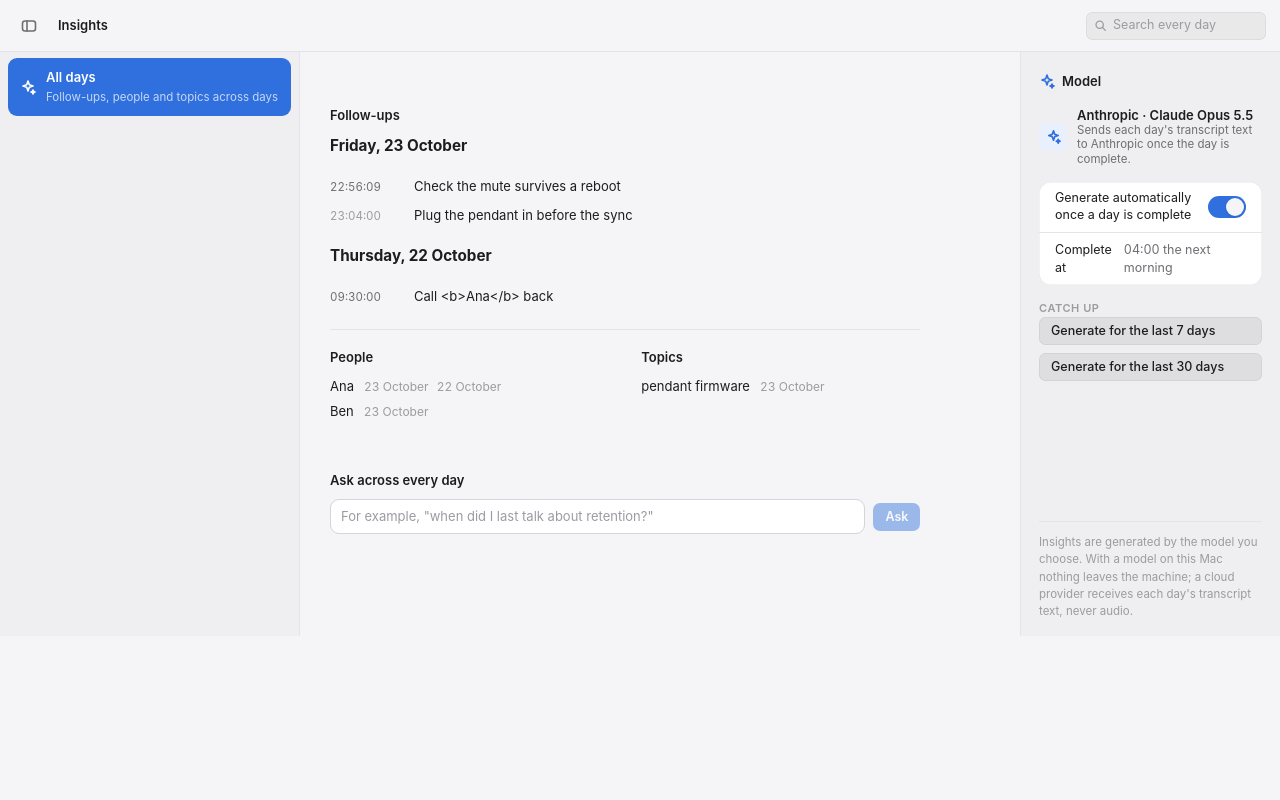
Scenario: All days asks across every day: the question goes to /api/ask-days, the answer shows with its sources as jumps
Type "when did I count?" into the field labelled "Ask across every day" at (598, 517), box 330,499 -> 866,534
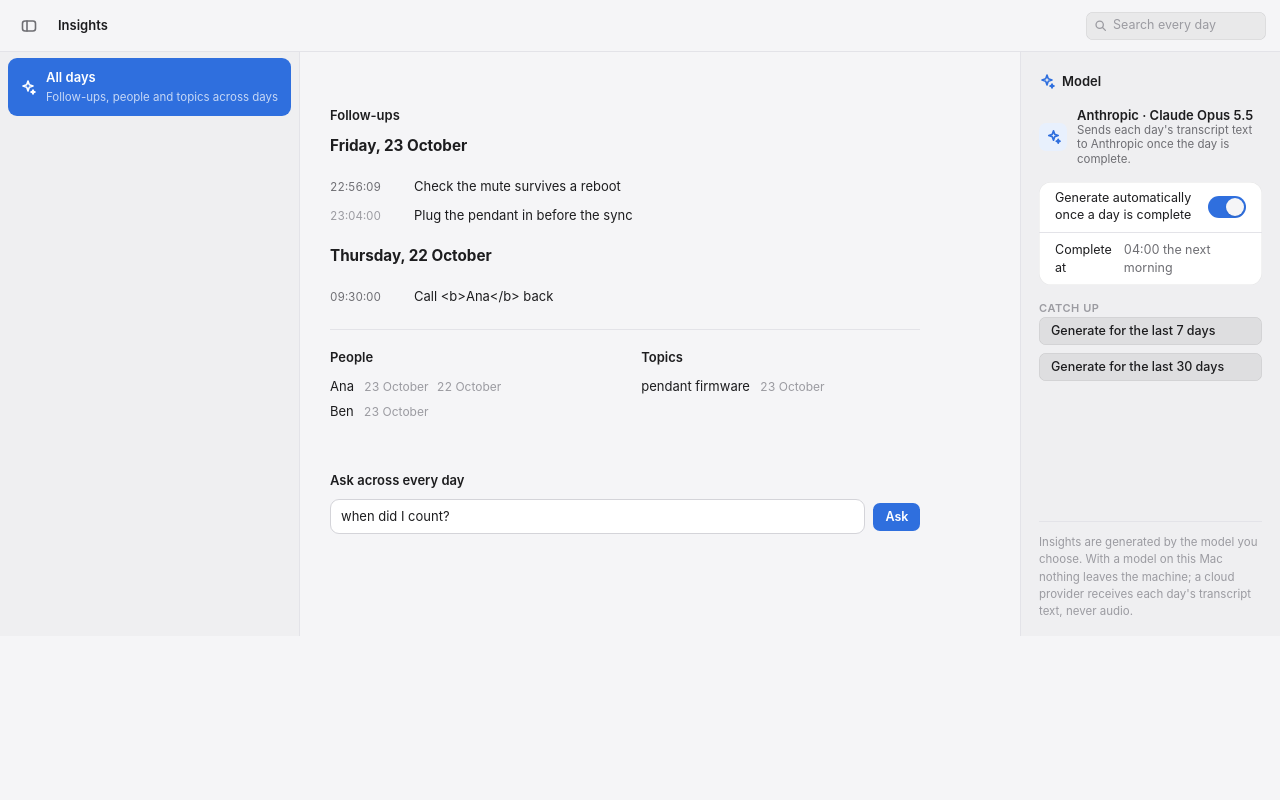
Submit the form "Ask across every day", box 330,471 -> 920,534
Wait 1000 ms
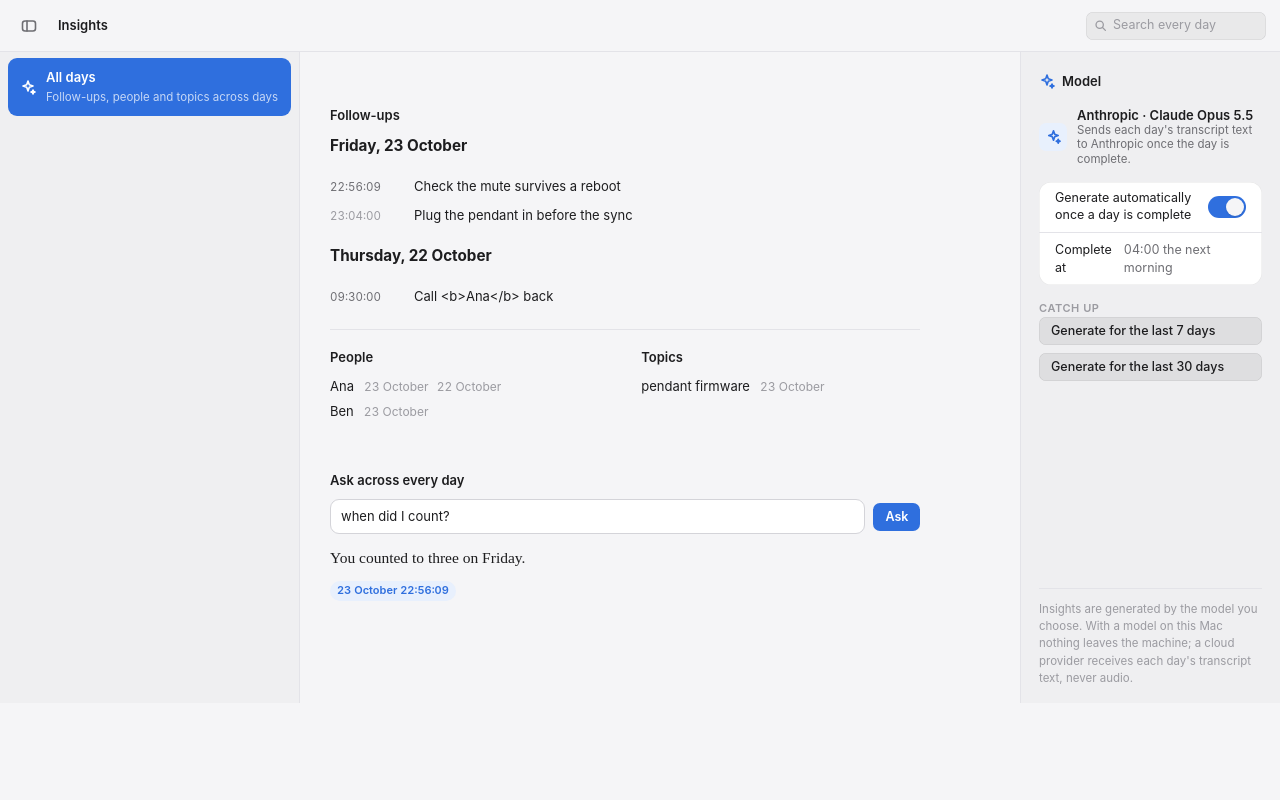
Expected: the text "You counted to three on Friday." is shown, 330,549 -> 526,566
